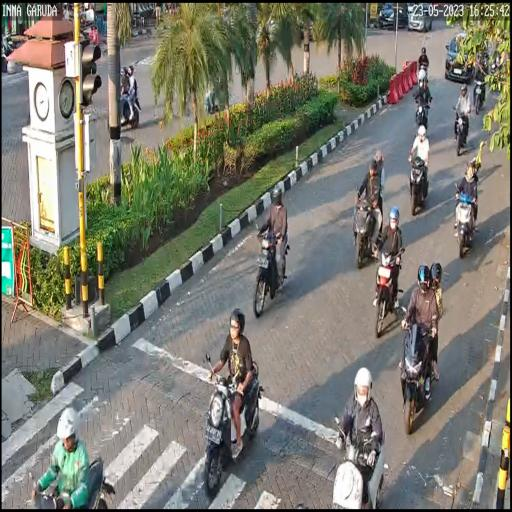motor: (201, 349, 264, 494), (400, 306, 440, 436), (252, 221, 292, 316), (370, 244, 402, 336), (354, 181, 385, 272), (454, 182, 478, 261), (408, 148, 430, 216), (451, 100, 472, 154)
